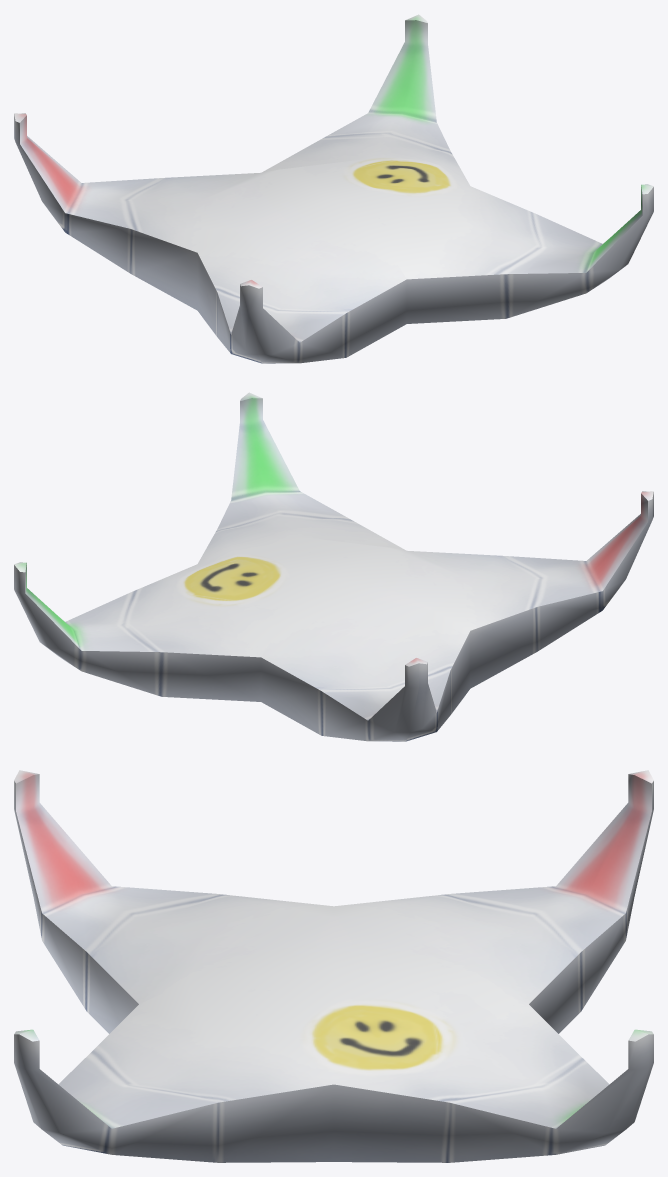
File: drone_body_01.fbx
3 views of the same model, one above another, from view 1: azimuth 30°, elevation 25°; view 2: azimuth 150°, elevation 25°; view 3: azimuth 270°, elevation 25° (orthographic). The views are drawn at different scales.
Parts seen in each view (by area): view 1: drone_body; view 2: drone_body; view 3: drone_body.
Part boxes in pixels (x1=…): drone_body: x1=14, y1=14, x2=653, y2=363; drone_body: x1=14, y1=392, x2=653, y2=741; drone_body: x1=14, y1=770, x2=653, y2=1162.
Bounding box in the file's own units: 4.16 × 1.44 × 4.19.
